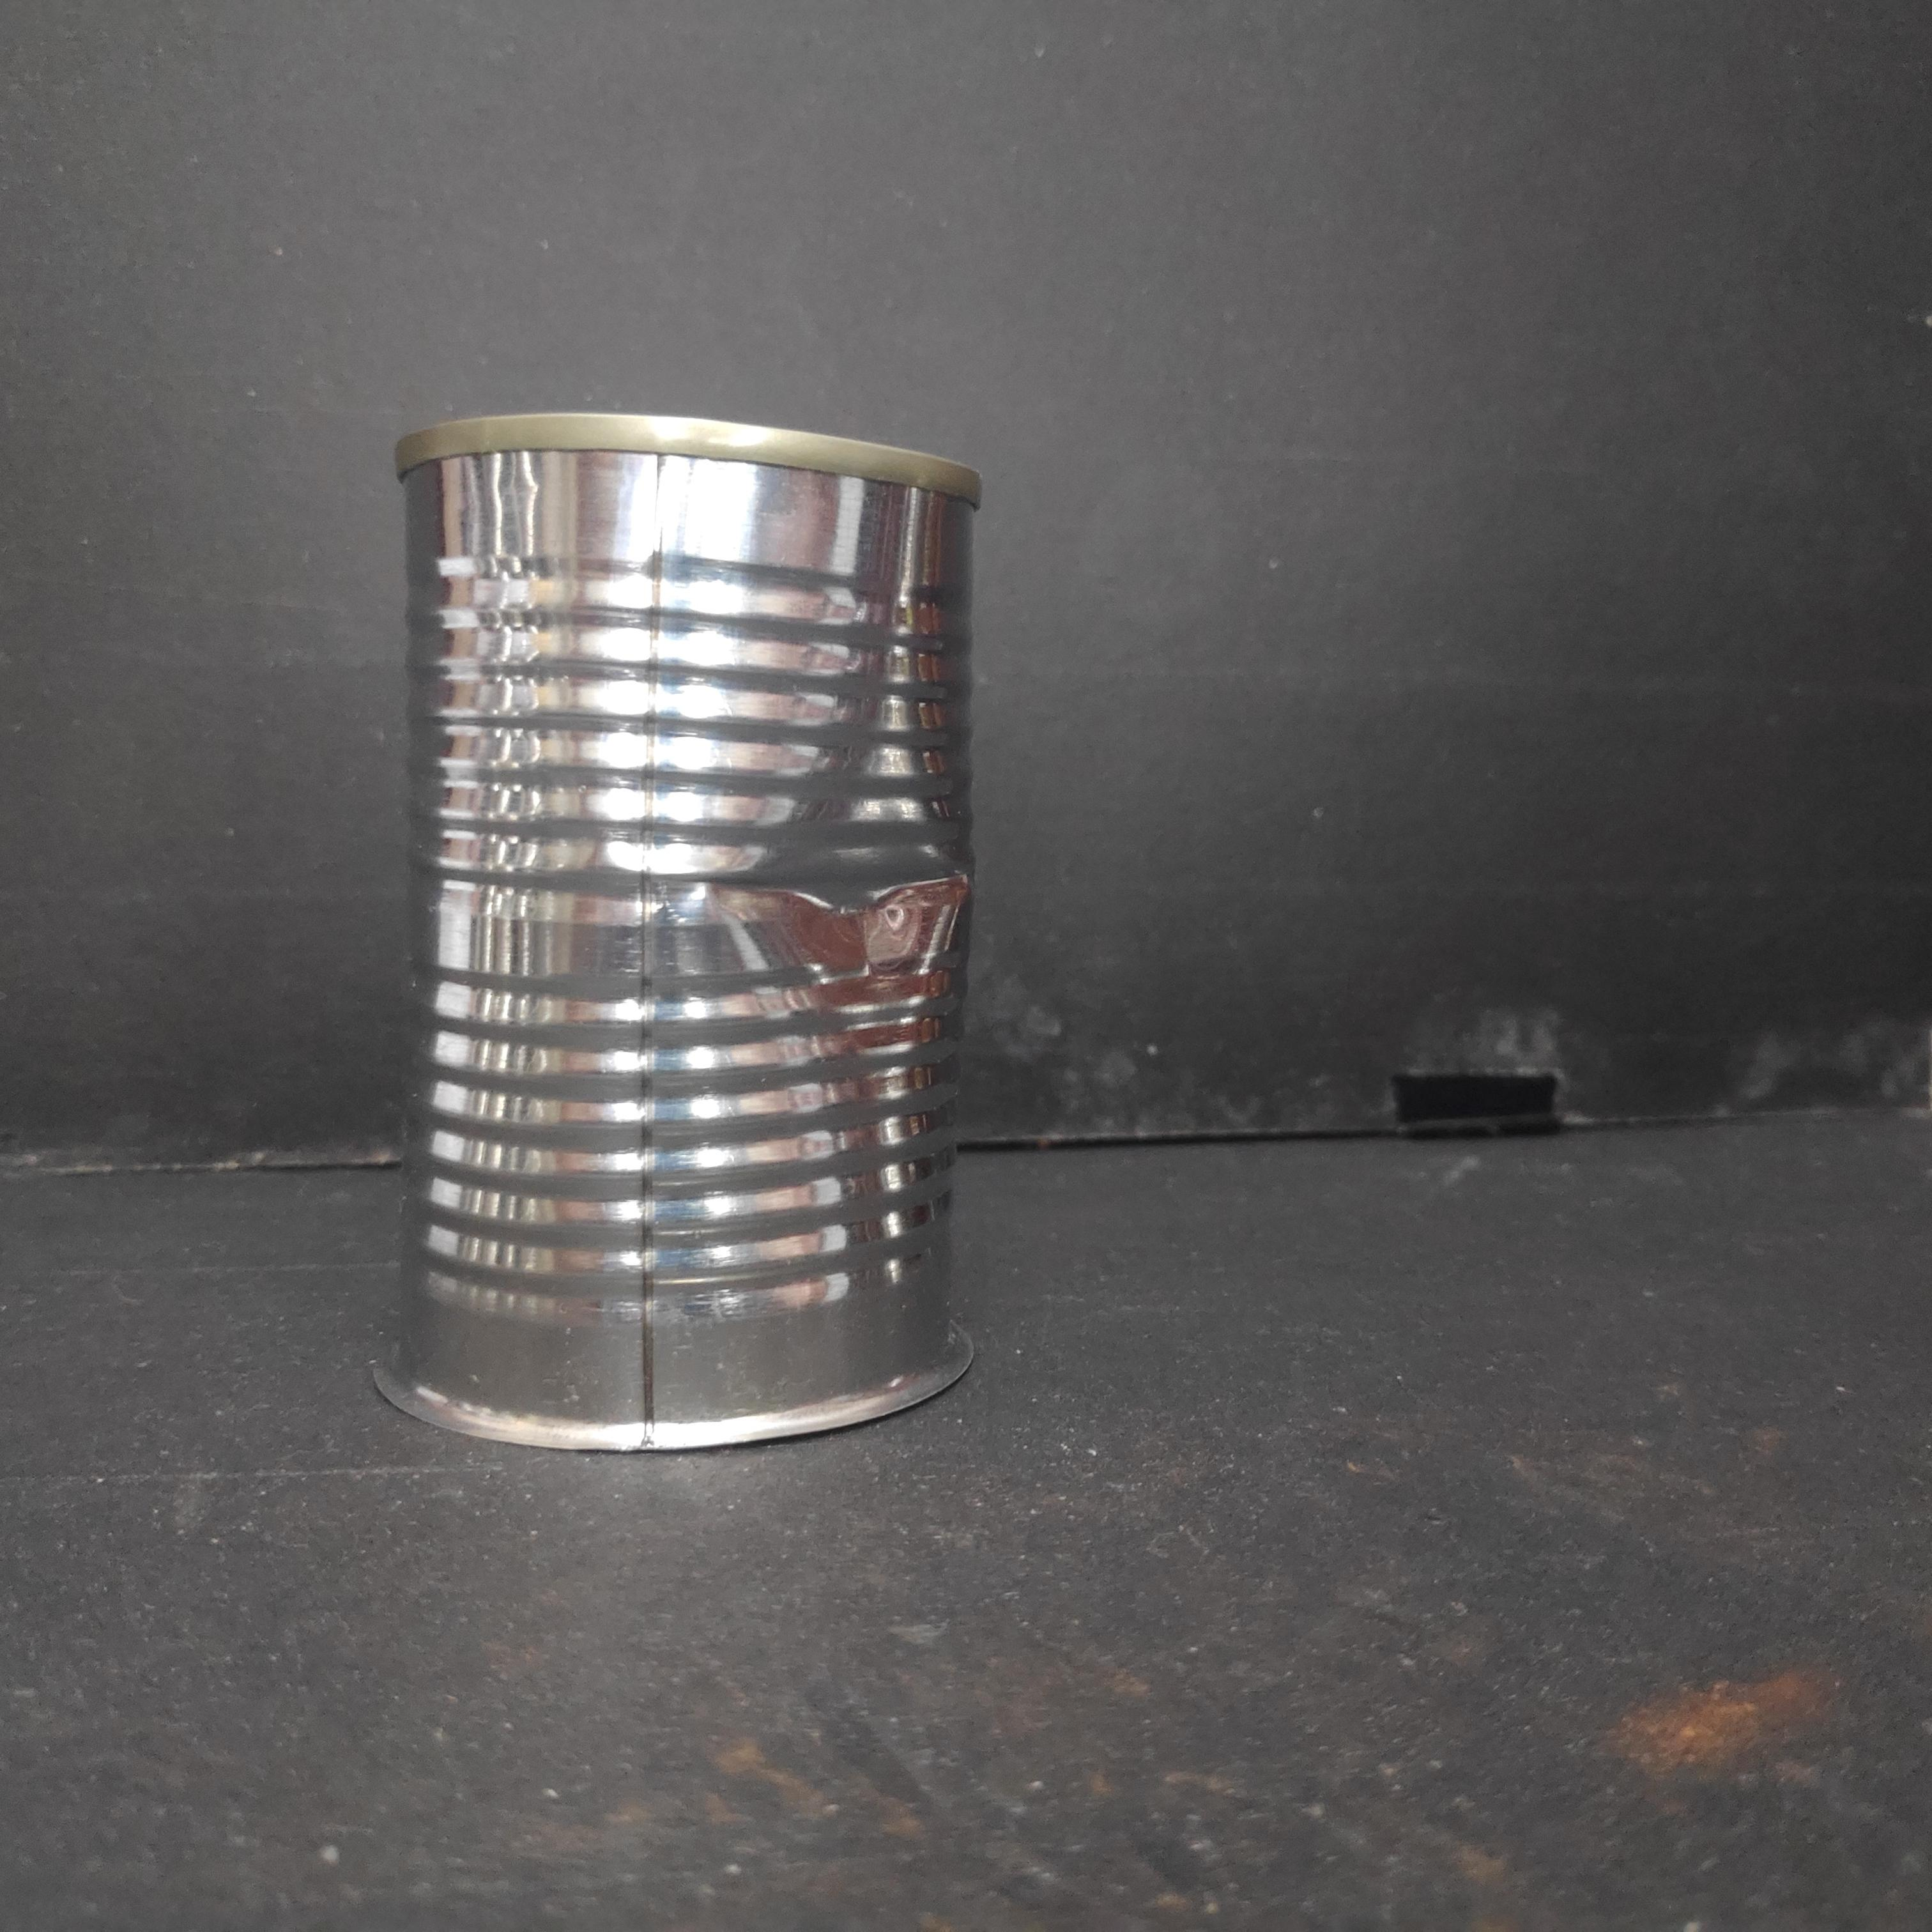Minor Defect: (375, 406, 989, 1462)
